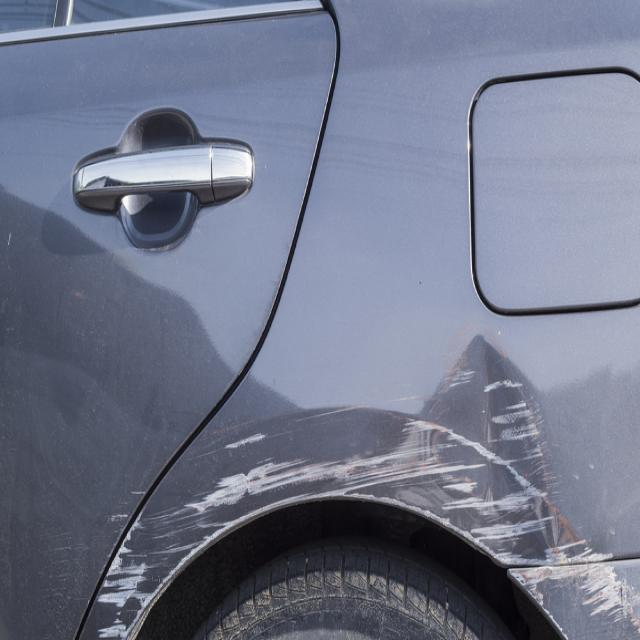Cabossage: (432, 319, 545, 593)
Rayure: (104, 364, 640, 640)
